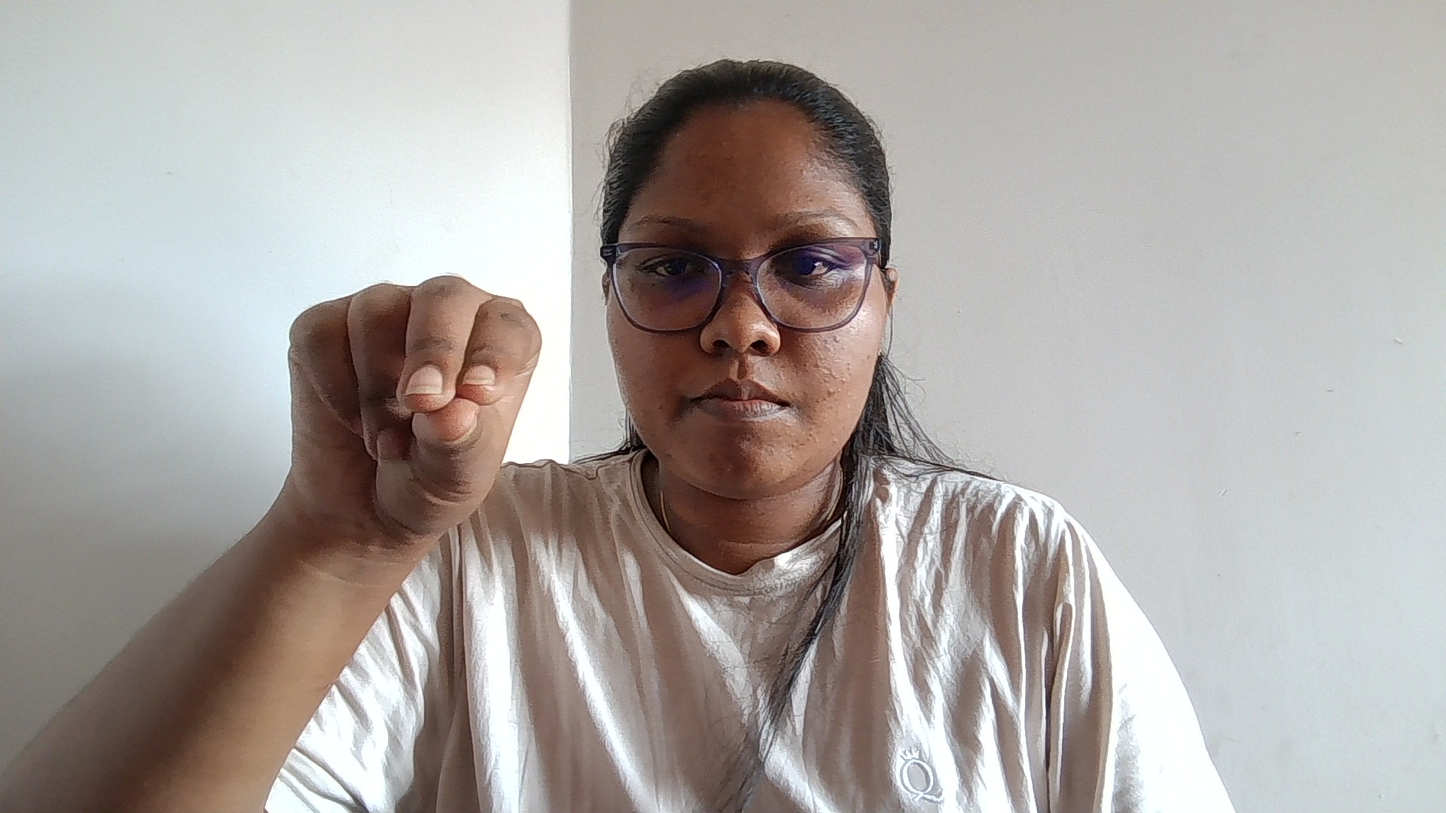No: (262, 228, 670, 675)
